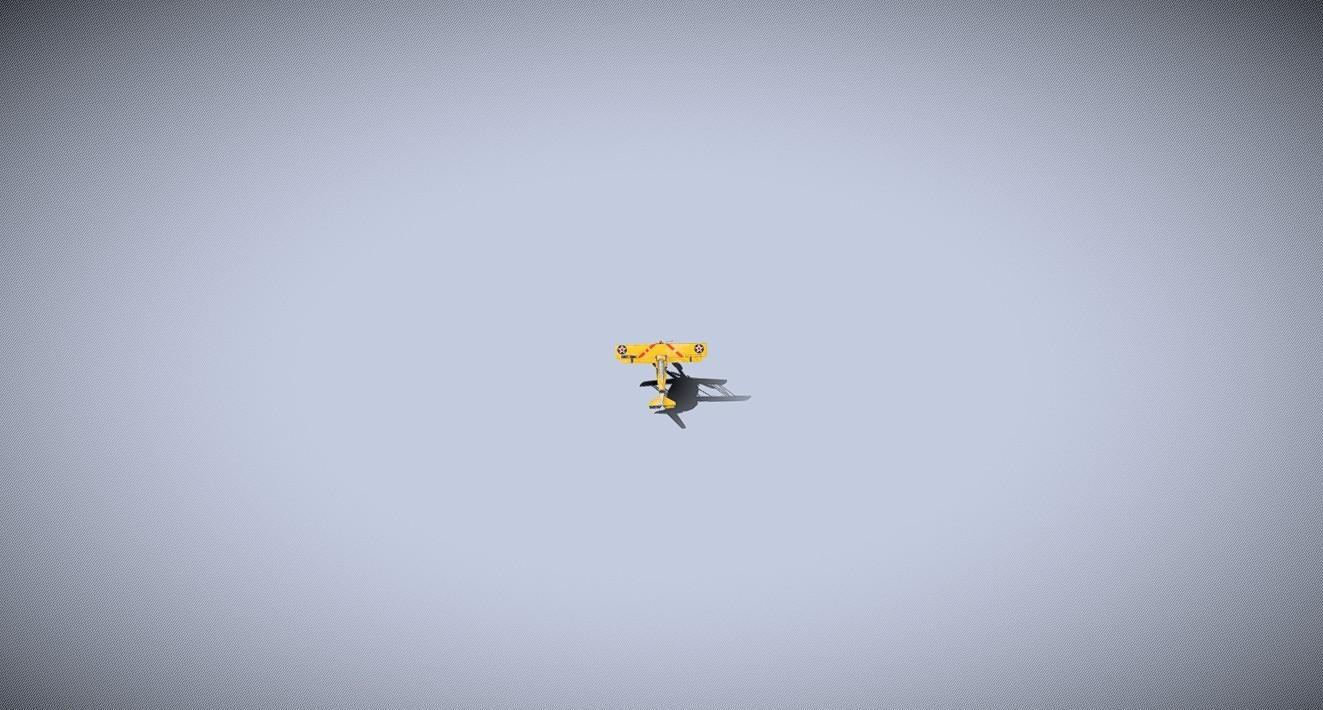Airplane: (614, 339, 751, 429)
